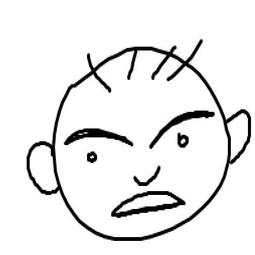ear: (19, 135, 58, 205), (225, 104, 251, 168)
frowning_eyebrow: (147, 107, 217, 150), (58, 124, 136, 150)
nose: (126, 161, 161, 189)
open_mouth: (108, 189, 188, 219)
small_eye: (172, 130, 193, 151), (84, 150, 98, 164)
